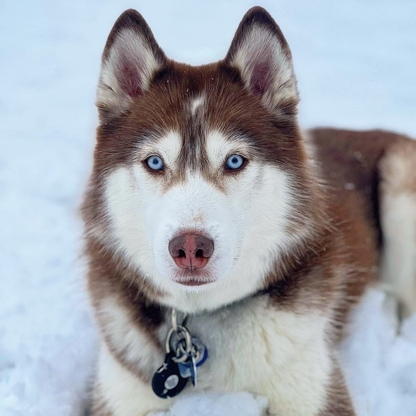husky: (73, 2, 416, 416)
